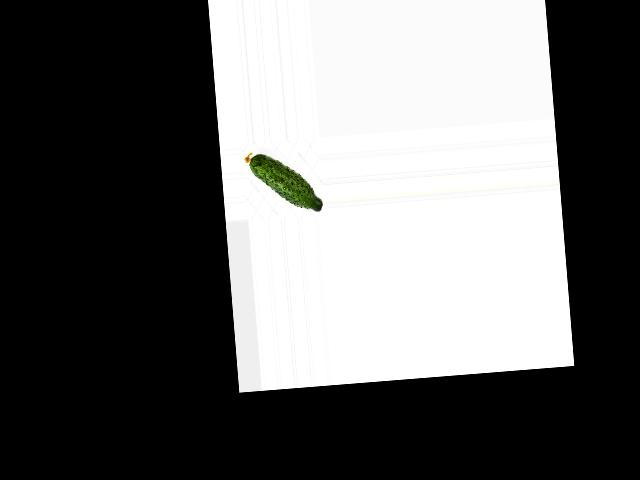cucumber: (244, 147, 322, 217)
